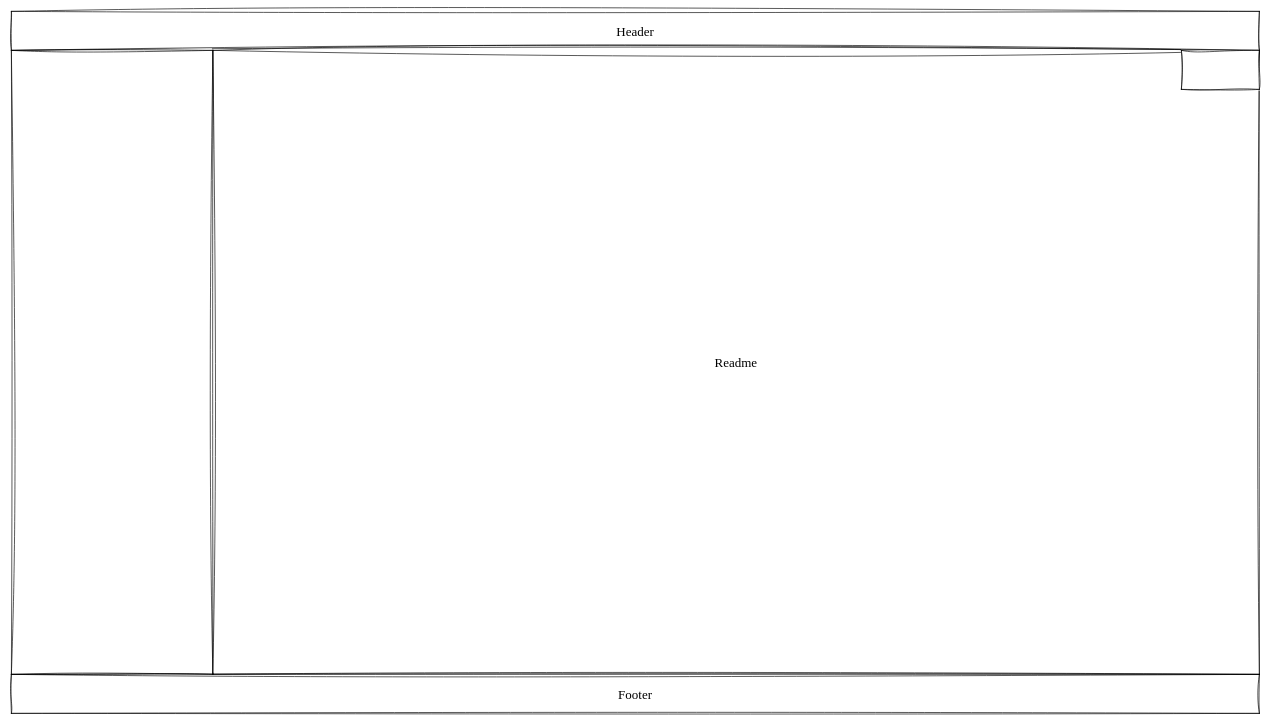
This 1271x725 diagram has some shape labels left out. The shapes that lost their labels are listed below. From the top down, each one's centre as x and y in pixels, then its label:
At [1220,69]: "View".
At [112,362]: "Files".
